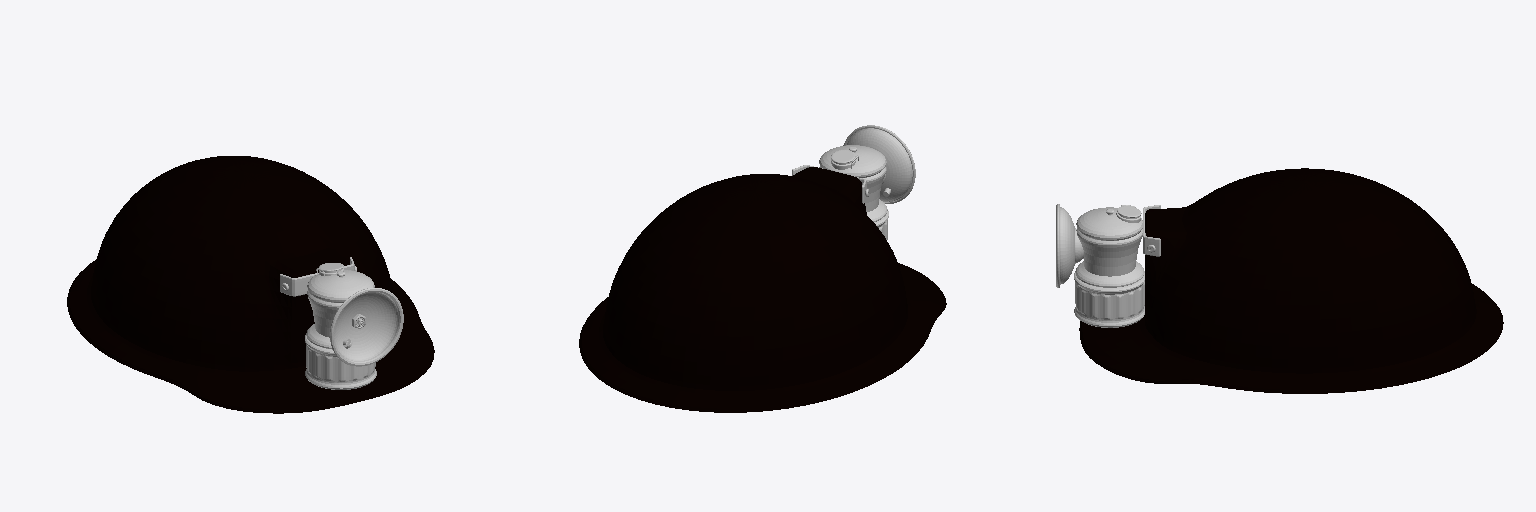
The model's file is helmet-retexture.obj.
3 renders of one model, left to right at view 1: azimuth 30°, elevation 25°; view 2: azimuth 150°, elevation 25°; view 3: azimuth 270°, elevation 25°, orthographic.
Parts seen in each view (by area): view 1: Sphere, Cylinder; view 2: Sphere, Cylinder; view 3: Sphere, Cylinder.
Part boxes in pixels (x1,y1,x2,y2): Sphere: (67,156,434,413); Cylinder: (280,257,403,389); Sphere: (579,167,946,412); Cylinder: (792,125,915,239); Sphere: (1079,168,1503,393); Cylinder: (1056,204,1160,327).
Size of the model in its own units: 2.3 by 1.12 by 3.05.